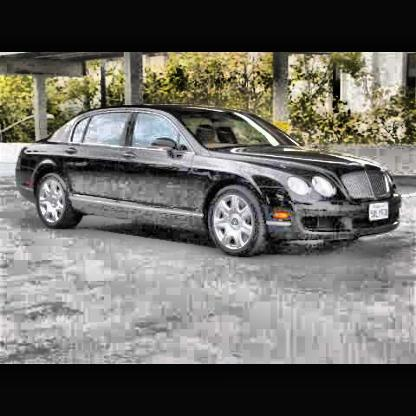Bentley Continental Flying Spur Sedan 2007: (14, 105, 404, 262)
